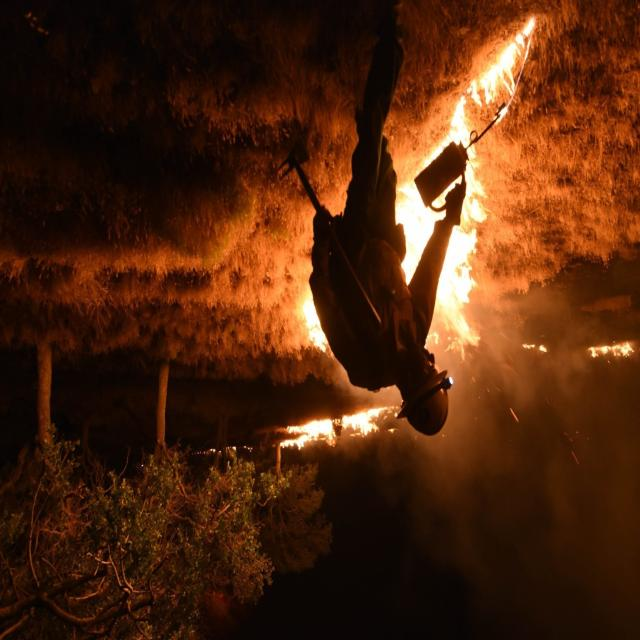fire: (266, 150, 485, 355), (500, 303, 630, 389), (456, 0, 530, 146), (274, 391, 398, 476)
person: (306, 36, 471, 442)
